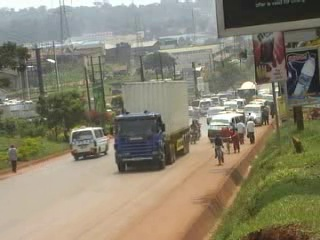Car: (188, 103, 196, 118)
Motorcycle: (188, 120, 197, 146), (194, 118, 203, 141)
